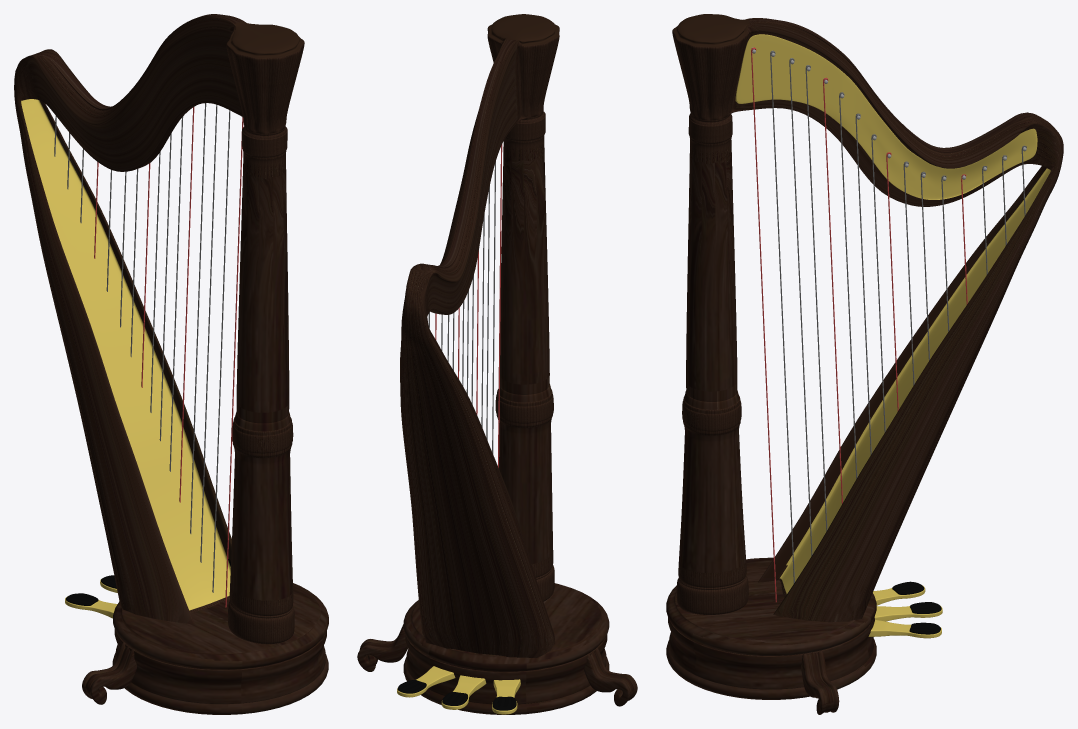
Rendered from harp.glb.
3 renders of one model, left to right at view 1: azimuth 30°, elevation 25°; view 2: azimuth 150°, elevation 25°; view 3: azimuth 270°, elevation 25°, orthographic. The views are drawn at different scales.
Parts seen in each view (by area): view 1: Object_4.002, Object_3, Object_6, Object_5; view 2: Object_4.002, Object_6, Object_10, Object_5, Object_11, Object_12; view 3: Object_4.002, Object_3, Object_6, Object_5, Object_10, Object_11.
Boxes of the visible parts, x1,y1,x2,y2 form: Object_4.002: (14, 14, 328, 714); Object_3: (21, 99, 230, 610); Object_6: (54, 103, 230, 592); Object_5: (94, 107, 243, 607); Object_4.002: (357, 14, 637, 714); Object_6: (428, 161, 495, 454); Object_10: (397, 666, 486, 709); Object_5: (435, 144, 502, 467); Object_11: (397, 680, 467, 705); Object_12: (492, 679, 520, 714); Object_4.002: (666, 14, 1063, 714); Object_3: (735, 34, 1050, 593); Object_6: (770, 50, 1026, 583); Object_5: (751, 47, 967, 602); Object_10: (868, 605, 942, 638); Object_11: (909, 602, 941, 634).
Bounding box in the file's own units: 0.7403 × 1.78 × 0.9994.
10 materials, 1 textured.
